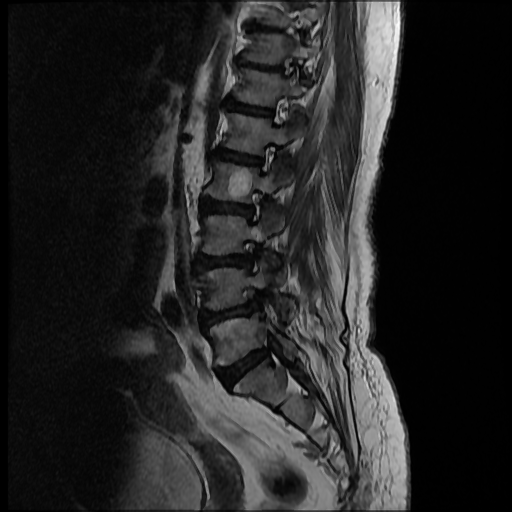RFS0: (245, 130, 281, 181)
RFS2: (235, 181, 271, 234)
RFS3: (235, 232, 270, 276)
